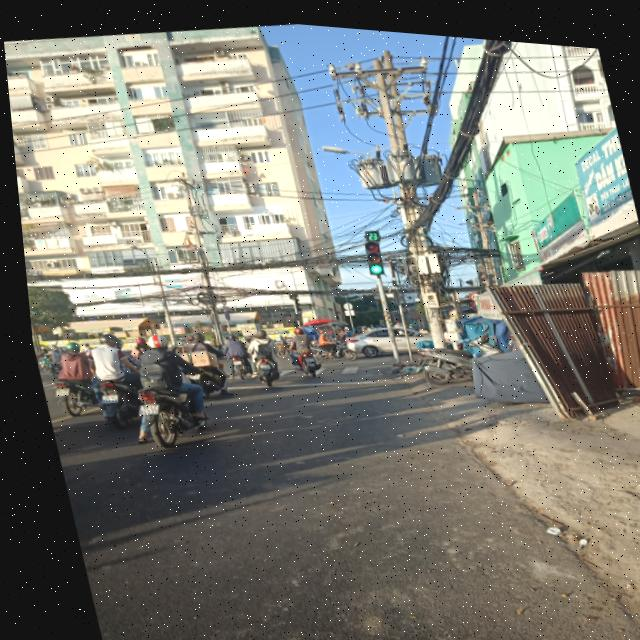Green: (355, 232, 386, 273)
